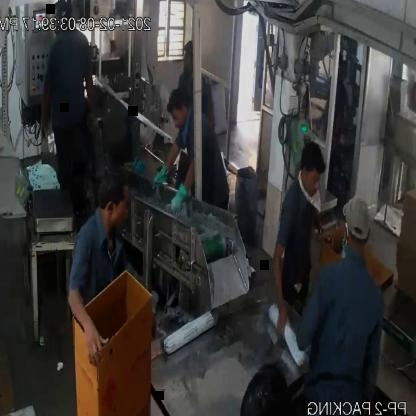no_glove: (60, 272, 114, 371), (271, 218, 293, 347)
